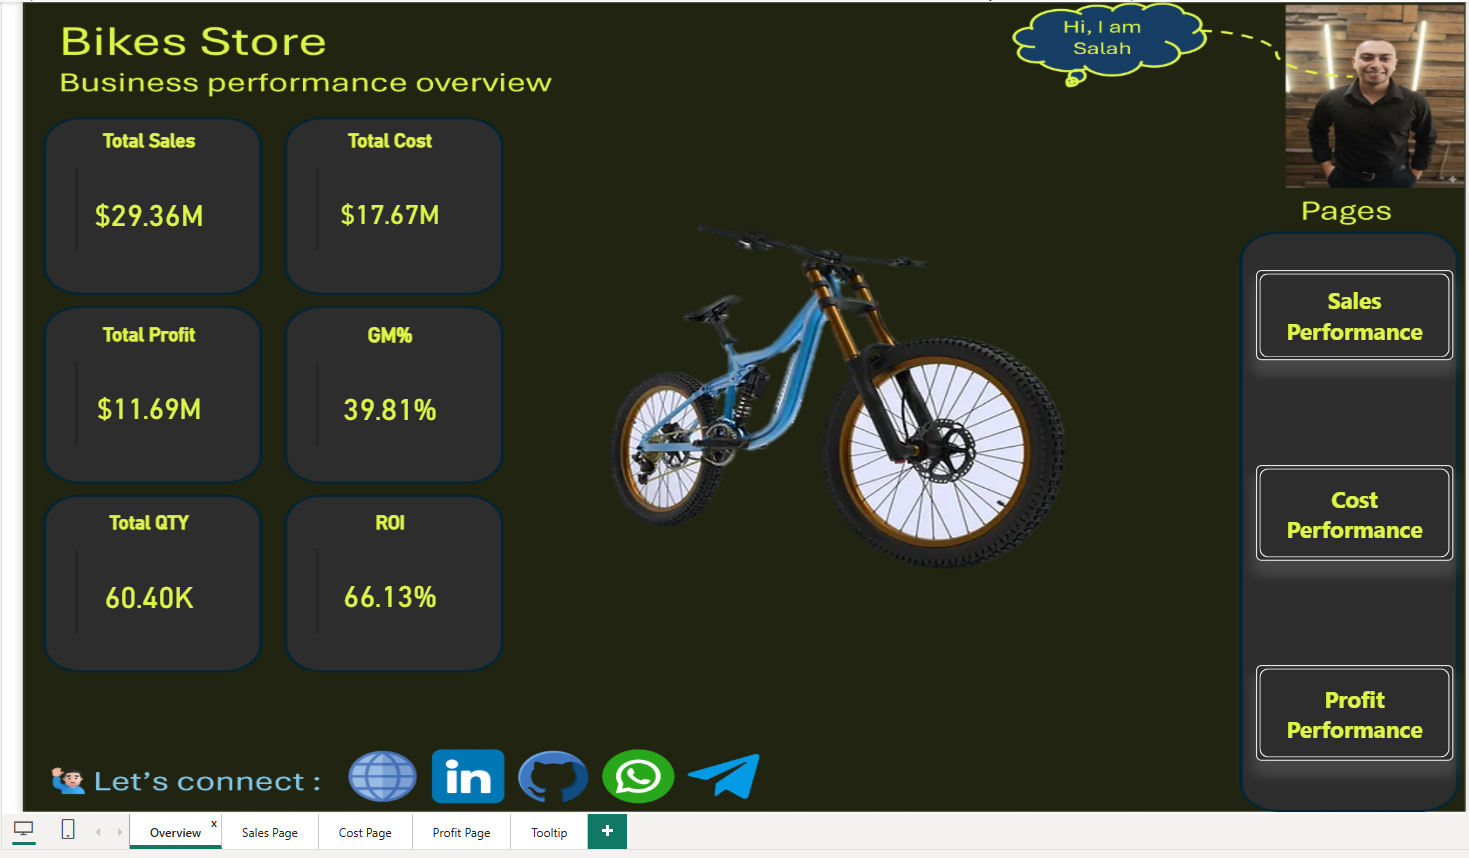

Layout of this report page (visuals, bound fields, positions):
{"tool":"powerbi","page":{"name":"Overview","canvas":[1280,720],"ordinal":0},"visuals":[{"type":"cardVisual","title":"Total Cost","fields":{"Data":["CALC.Total cost"]},"box":[244.1,112.8,165.3,125.5],"z":0},{"type":"cardVisual","title":"Total Sales","fields":{"Data":["CALC.Total Sales"]},"box":[30.2,112.8,165.3,125.5],"z":1000},{"type":"cardVisual","title":"Total Profit","fields":{"Data":["CALC.Profit"]},"box":[30.2,285,165.3,125.5],"z":2000},{"type":"cardVisual","title":"Total QTY","fields":{"Data":["CALC.Total QTY"]},"box":[30.2,451.3,165.3,125.5],"z":3000},{"type":"cardVisual","title":"GM%","fields":{"Data":["CALC.Gross margin"]},"box":[244.1,285,165.3,125.5],"z":4000},{"type":"cardVisual","title":"ROI","fields":{"Data":["CALC.ROI"]},"box":[244.1,451.3,165.3,125.5],"z":5000},{"type":"shape","box":[286.9,658.5,65.2,52.5],"z":6000},{"type":"shape","box":[362.8,658.5,65.2,52.5],"z":7000},{"type":"shape","box":[438.7,658.5,65.2,52.5],"z":8000},{"type":"shape","box":[513.6,658.5,65.2,52.5],"z":9000},{"type":"shape","box":[592.3,658.5,65.2,52.5],"z":10000},{"type":"shape","box":[1094.3,237.7,174.6,80.5],"z":11000},{"type":"shape","box":[1094.3,410.5,174.6,85],"z":12000},{"type":"shape","box":[1094.3,587.9,174.6,85],"z":13000}]}

Visuals, with their boxes on the page's 1280x720 design canvas (x1, y1, x2, y2). These are canvas units, not pixel positions in the 1469x858 screenshot, which may show the page scaled, cropped or inside an application window:
"Total Cost" cardVisual: region(244, 113, 409, 238)
"Total Sales" cardVisual: region(30, 113, 196, 238)
"Total Profit" cardVisual: region(30, 285, 196, 410)
"Total QTY" cardVisual: region(30, 451, 196, 577)
"GM%" cardVisual: region(244, 285, 409, 410)
"ROI" cardVisual: region(244, 451, 409, 577)
shape: region(287, 658, 352, 711)
shape: region(363, 658, 428, 711)
shape: region(439, 658, 504, 711)
shape: region(514, 658, 579, 711)
shape: region(592, 658, 658, 711)
shape: region(1094, 238, 1269, 318)
shape: region(1094, 410, 1269, 496)
shape: region(1094, 588, 1269, 673)
